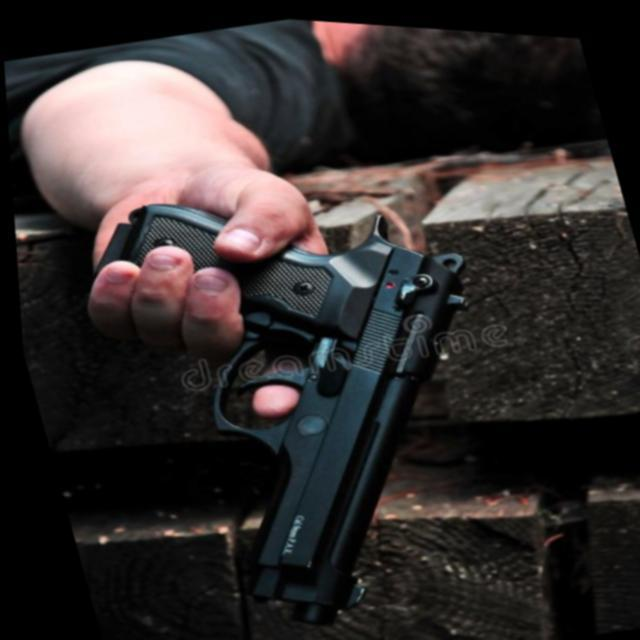weapon: (48, 122, 572, 640)
